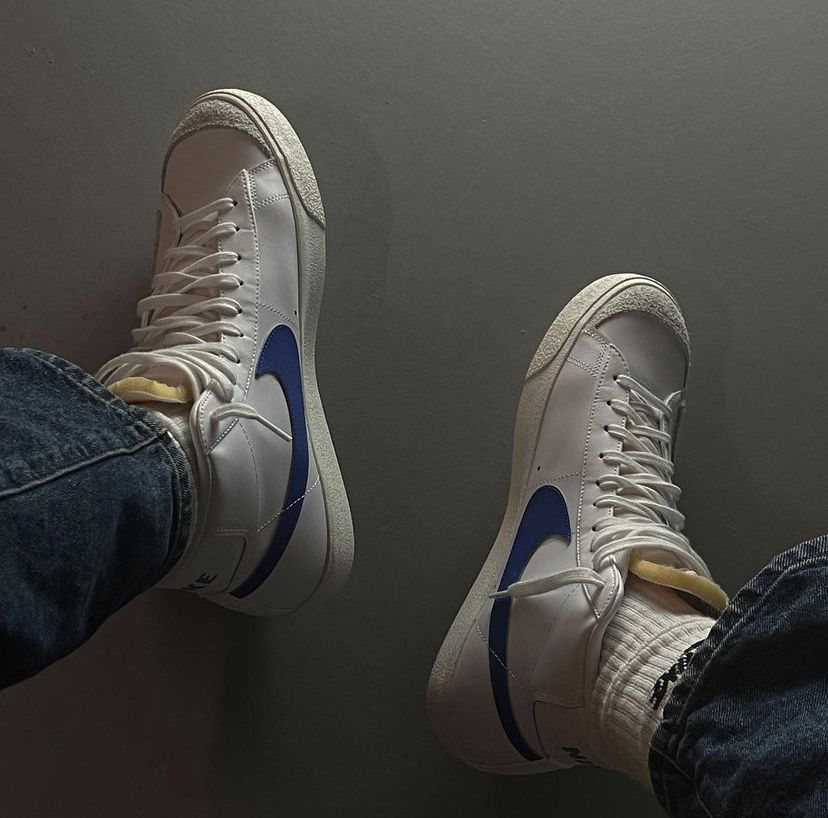nike_blazer_mid77_darkblue: (421, 271, 730, 779), (95, 83, 356, 625)
